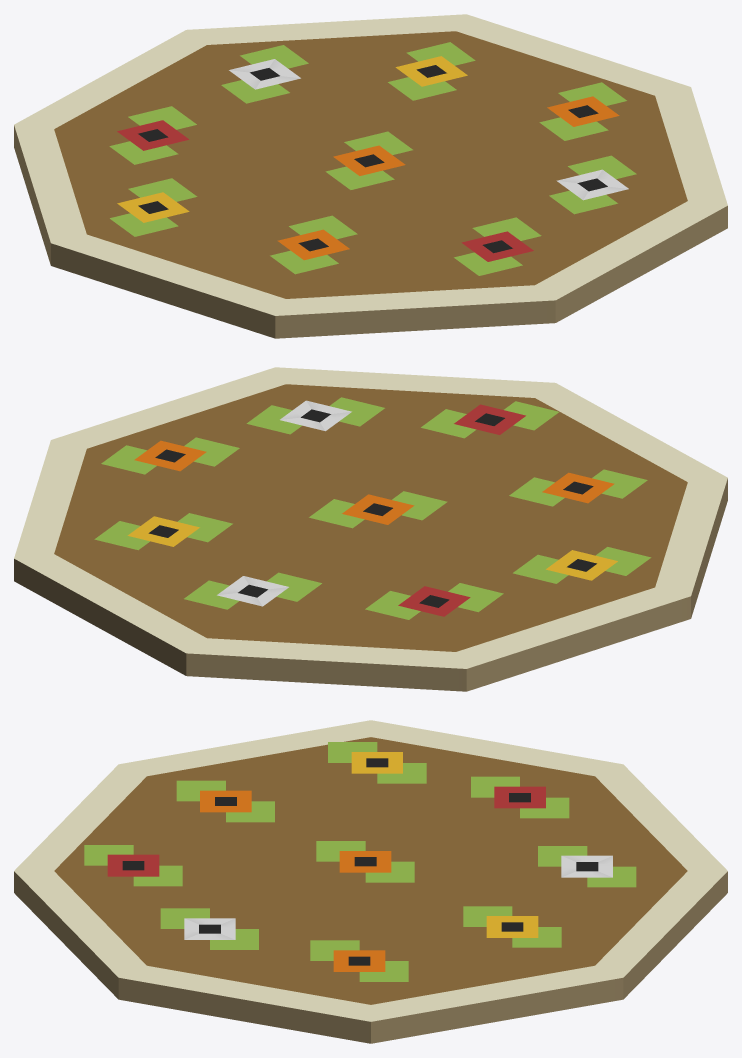
File: SM_ParkPlanter_Round_01.fbx
3 views of the same model, one above another, from view 1: azimuth 30°, elevation 25°; view 2: azimuth 150°, elevation 25°; view 3: azimuth 270°, elevation 25° (orthographic). The views are drawn at different scales.
Visible parts, largest first — view 1: SM_ParkPlanter_Round_01; view 2: SM_ParkPlanter_Round_01; view 3: SM_ParkPlanter_Round_01.
Part boxes in pixels (box(x1,y1,x2,y2)): SM_ParkPlanter_Round_01: box(14, 14, 727, 338); SM_ParkPlanter_Round_01: box(14, 367, 727, 691); SM_ParkPlanter_Round_01: box(14, 720, 727, 1043).
Bounding box in the file's own units: 3.41 × 0.1533 × 3.41.
